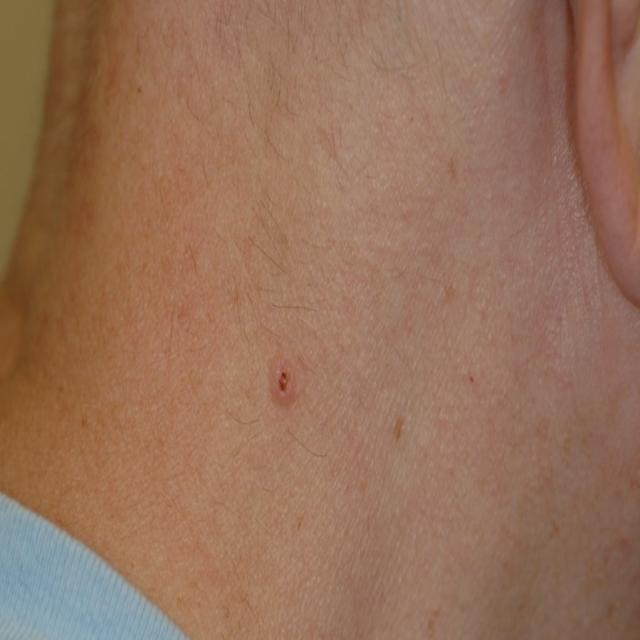Cancer: (251, 321, 315, 432)
